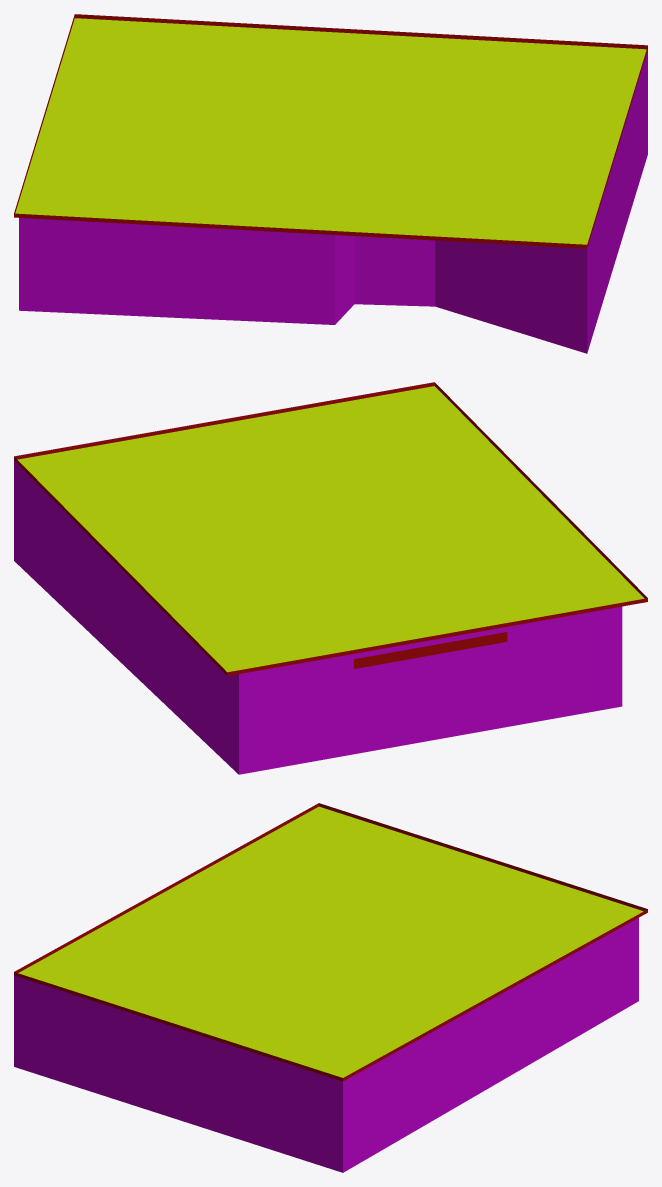
File: fav_9.glb
The picture shows the model from 3 angles, top to bottom: view 1: azimuth 30°, elevation 25°; view 2: azimuth 150°, elevation 25°; view 3: azimuth 270°, elevation 25°; orthographic projection. The views are drawn at different scales.
Parts seen in each view (by area): view 1: fav_9; view 2: fav_9; view 3: fav_9.
Boxes of the visible parts, box(x1,y1,x2,y2) form: fav_9: box(14, 14, 647, 353); fav_9: box(14, 382, 647, 774); fav_9: box(14, 803, 647, 1172).
Bounding box in the file's own units: 58.95 × 9.49 × 57.44.
